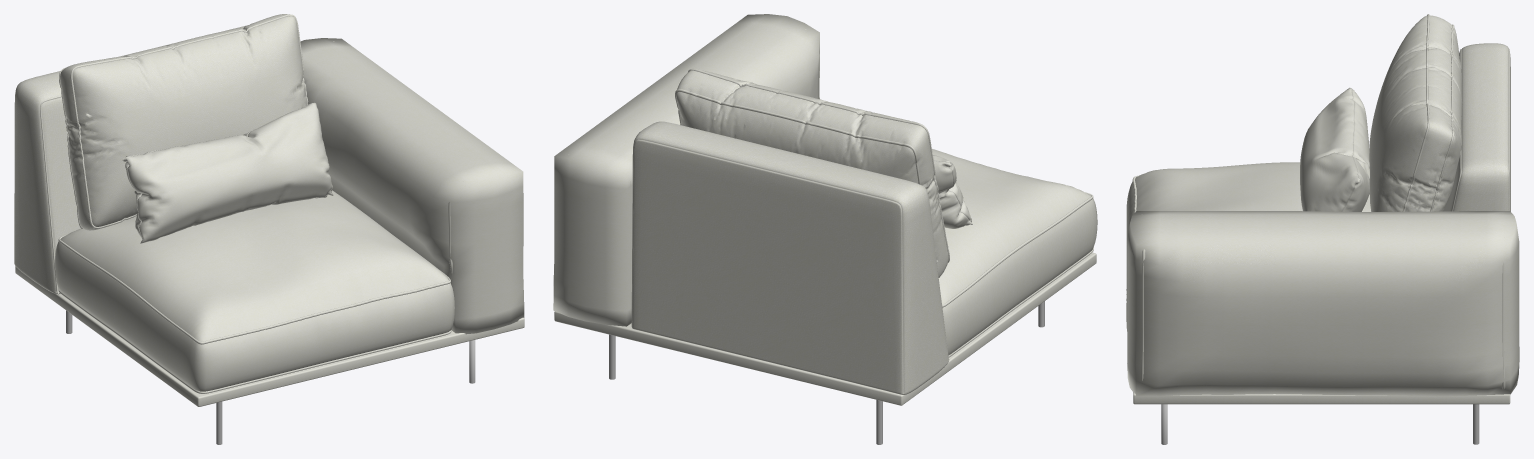
Rendered from single_arm_left_1.glb.
3 views of the same model, side by side, from view 1: azimuth 30°, elevation 25°; view 2: azimuth 150°, elevation 25°; view 3: azimuth 270°, elevation 25° (orthographic). The views are drawn at different scales.
Visible parts, largest first — view 1: Seating cushion .007, Armrest.006, pillow.021, pillow.020, pillow.019, prop.005, Leg.008; view 2: pillow.019, Armrest.006, Seating cushion .007, pillow.021, prop.005, pillow.020, Leg.008; view 3: Armrest.006, pillow.021, pillow.019, Seating cushion .007, pillow.020, prop.005, Leg.008.
Part boxes in pixels (x1,y1,x2,y2): Seating cushion .007: (55, 190, 454, 393); Armrest.006: (300, 38, 524, 334); pillow.021: (59, 14, 308, 230); pillow.020: (122, 102, 333, 243); pillow.019: (14, 25, 245, 294); prop.005: (15, 266, 524, 406); Leg.008: (66, 310, 475, 444); pillow.019: (631, 121, 949, 394); Armrest.006: (553, 14, 819, 326); Seating cushion .007: (932, 149, 1097, 357); pillow.021: (675, 68, 949, 277); prop.005: (554, 252, 1096, 405); pillow.020: (933, 155, 972, 228); Leg.008: (609, 301, 1044, 444); Armrest.006: (1127, 211, 1519, 396); pillow.021: (1369, 14, 1462, 211); pillow.019: (1444, 43, 1510, 211); Seating cushion .007: (1126, 162, 1370, 331); pillow.020: (1300, 87, 1369, 211); prop.005: (1133, 392, 1510, 404); Leg.008: (1161, 404, 1479, 444).
Bounding box in the file's own units: 0.9859 × 0.7751 × 0.9352.
3 materials, 2 textured.
